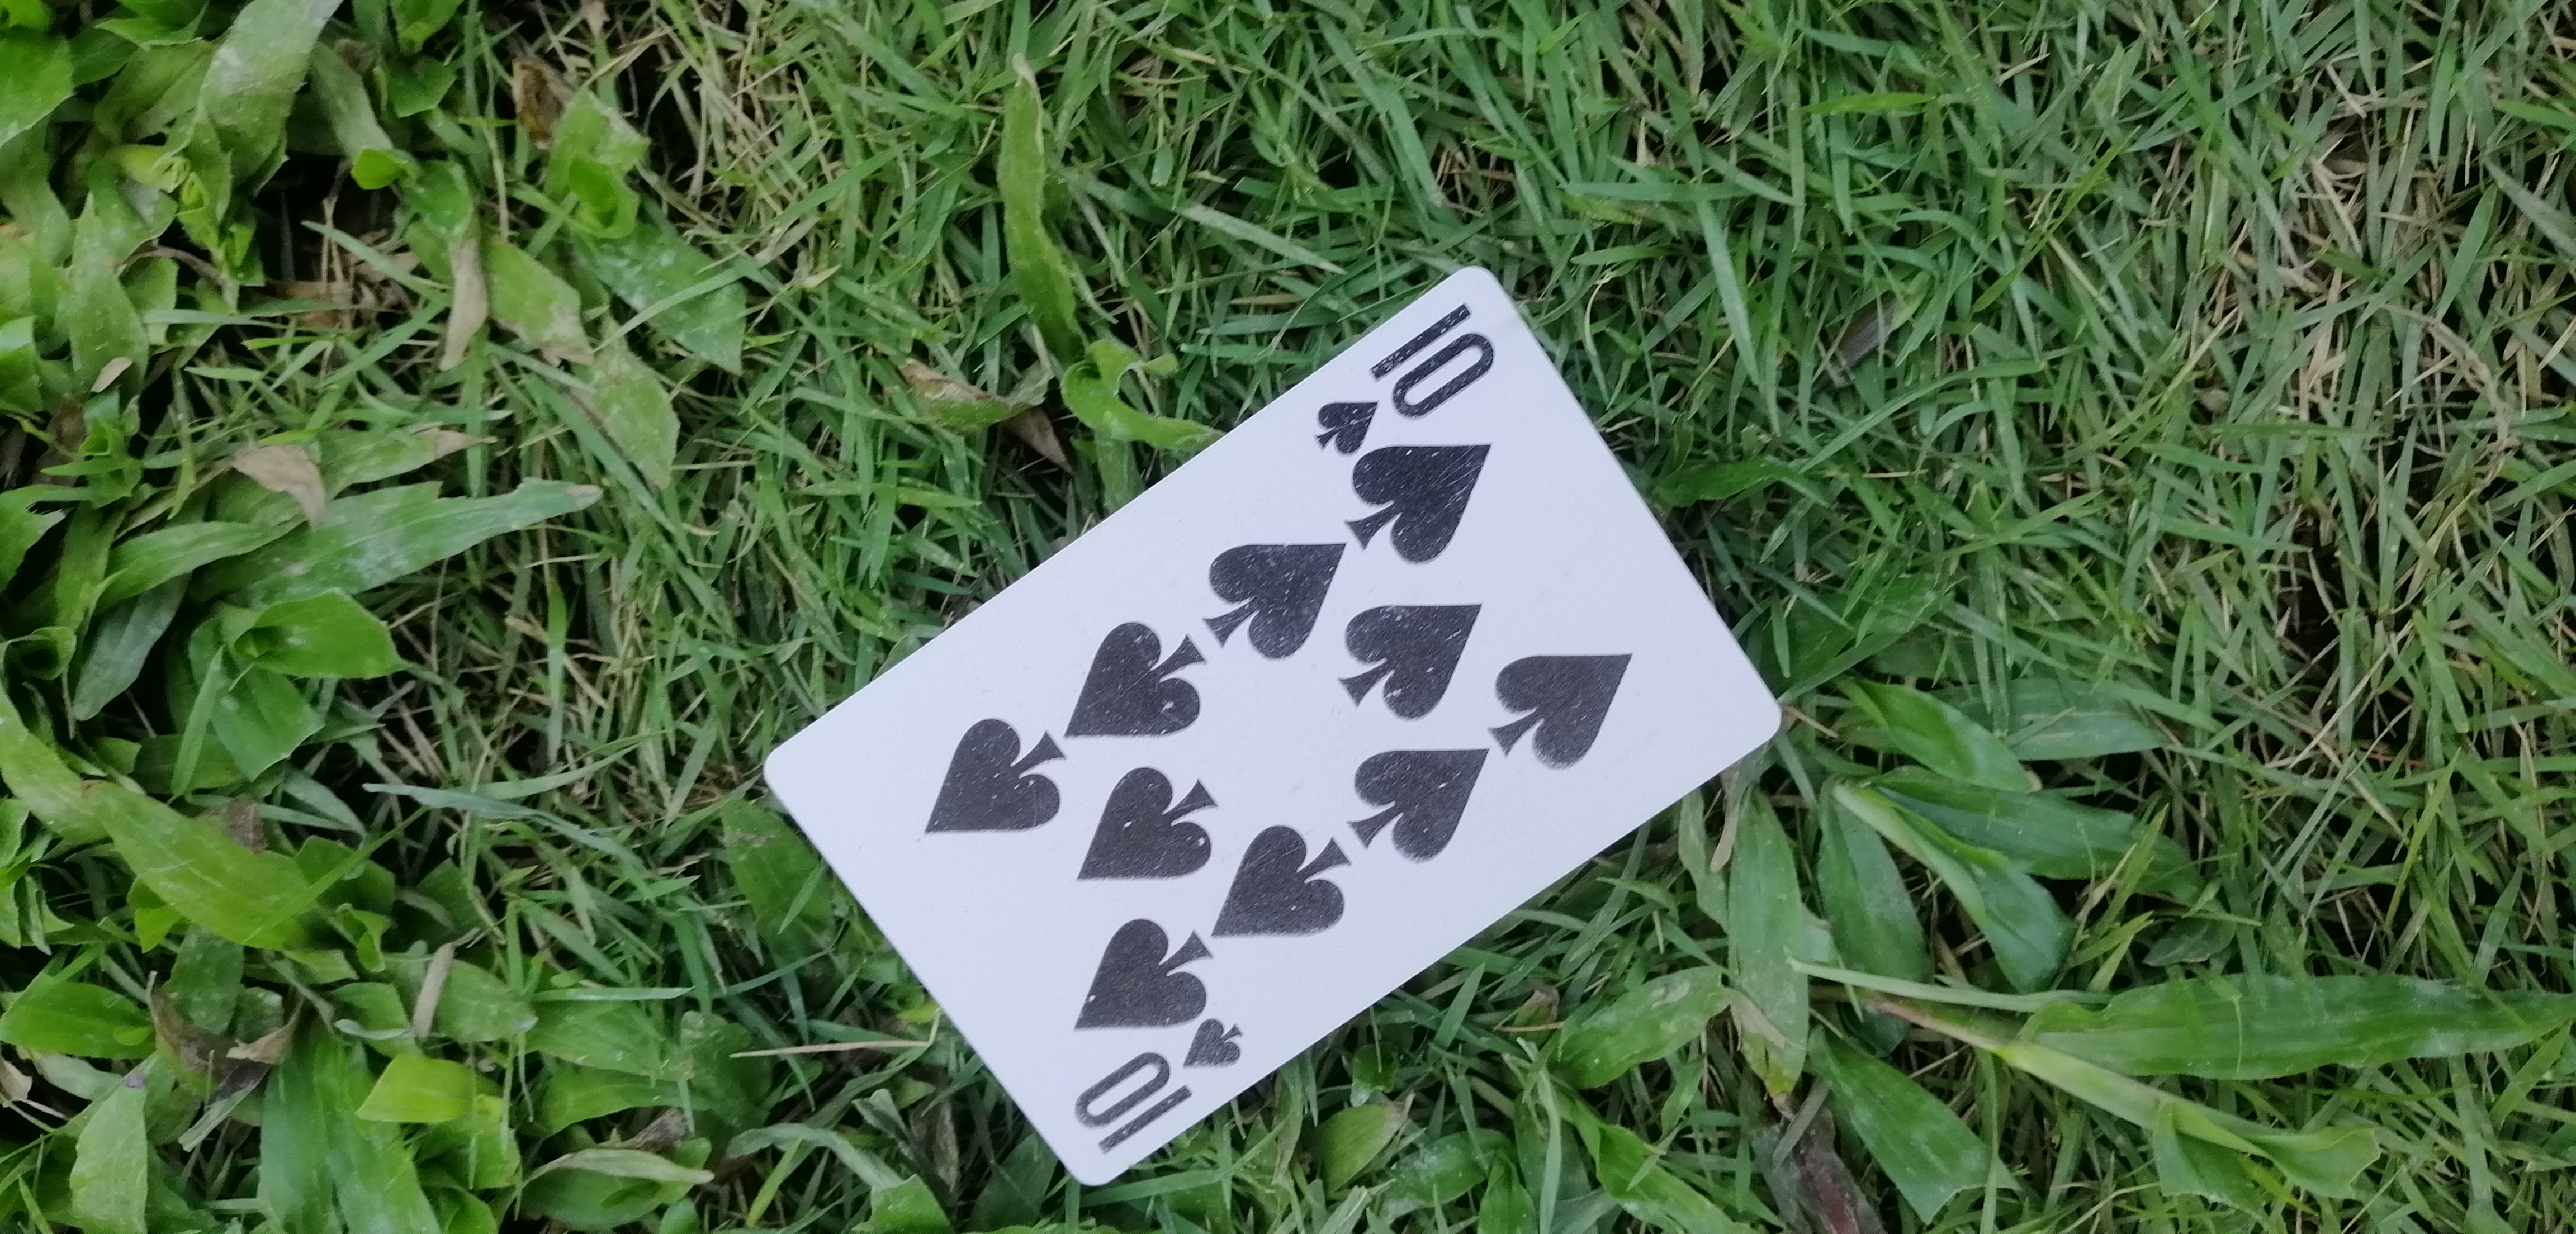ten: (731, 243, 1778, 1199)
